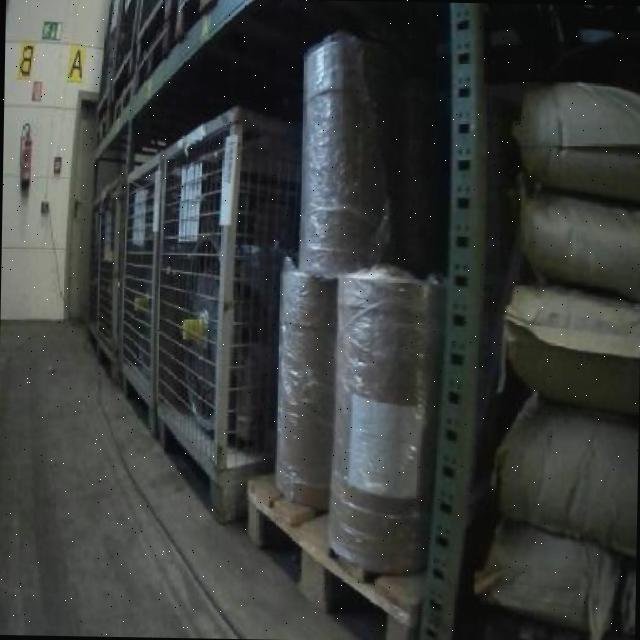pallet: (229, 464, 428, 640)
